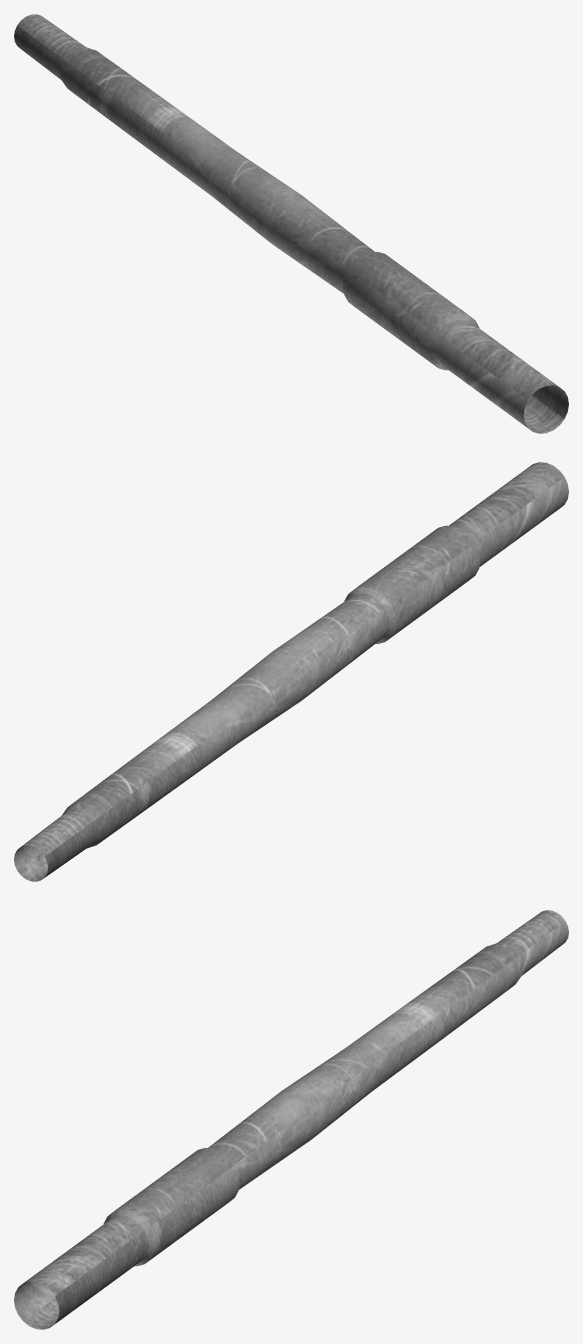
File: tank_cannon.obj
The picture shows the model from 3 angles, top to bottom: view 1: azimuth 30°, elevation 25°; view 2: azimuth 150°, elevation 25°; view 3: azimuth 330°, elevation 25°; orthographic projection.
Size of the model in its own units: 0.131 by 0.131 by 2.2.
